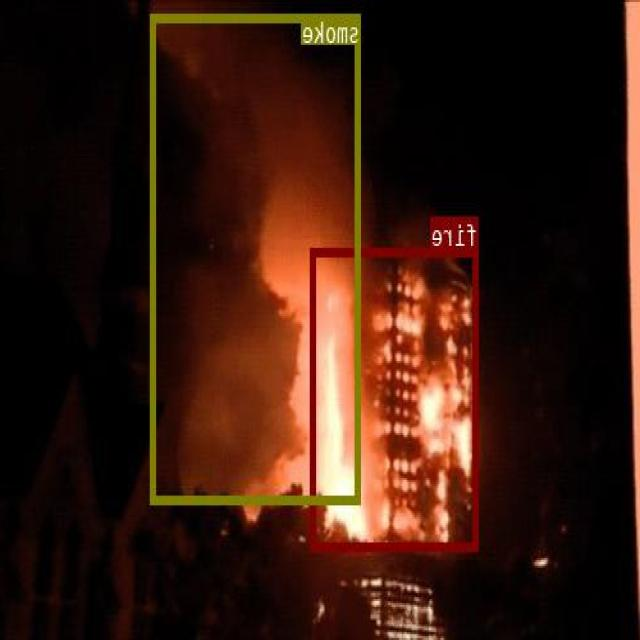fire: (312, 247, 479, 549)
smoke: (151, 14, 362, 503)
